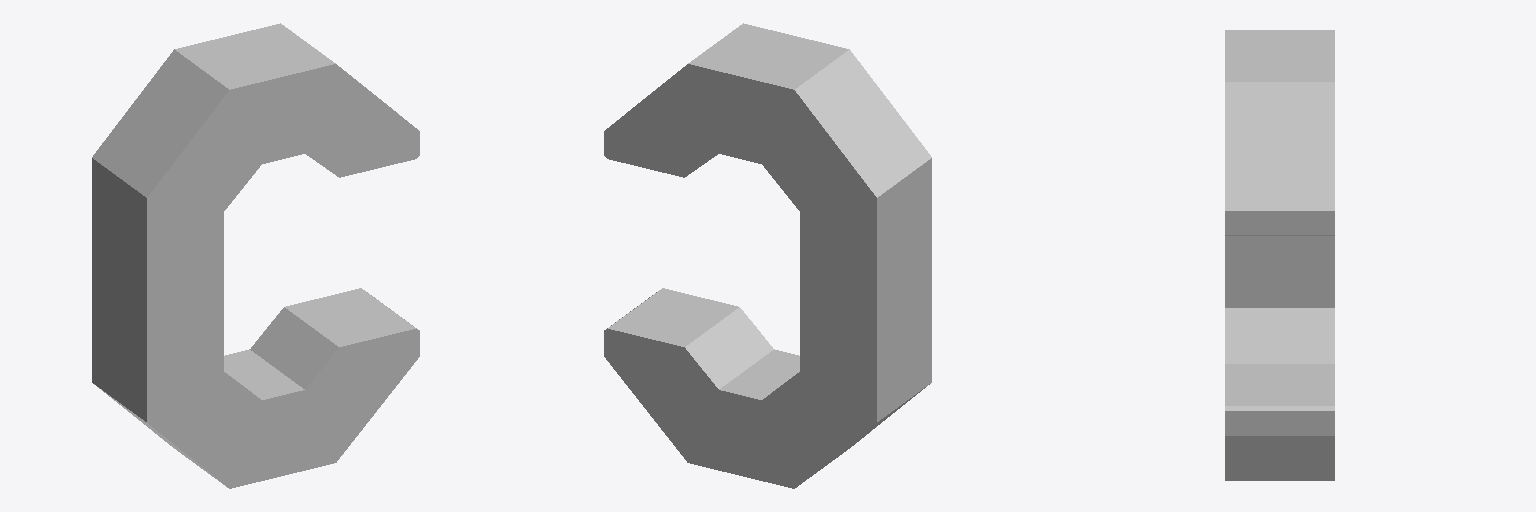
3 views of the same model, side by side, from view 1: azimuth 30°, elevation 25°; view 2: azimuth 150°, elevation 25°; view 3: azimuth 270°, elevation 25° (orthographic).
Visible parts, largest first — view 1: text: ABCDEFGHIJKLMNOPQRSTUVWXYZ[number redacted]; view 2: text: ABCDEFGHIJKLMNOPQRSTUVWXYZ[number redacted]; view 3: text: ABCDEFGHIJKLMNOPQRSTUVWXYZ[number redacted].
Part boxes in pixels (x1,y1,x2,y2): text: ABCDEFGHIJKLMNOPQRSTUVWXYZ[number redacted]: (92,23,419,488); text: ABCDEFGHIJKLMNOPQRSTUVWXYZ[number redacted]: (604,23,931,488); text: ABCDEFGHIJKLMNOPQRSTUVWXYZ[number redacted]: (1225,30,1334,480).
Bounding box in the file's own units: 71.35 × 99.57 × 25.